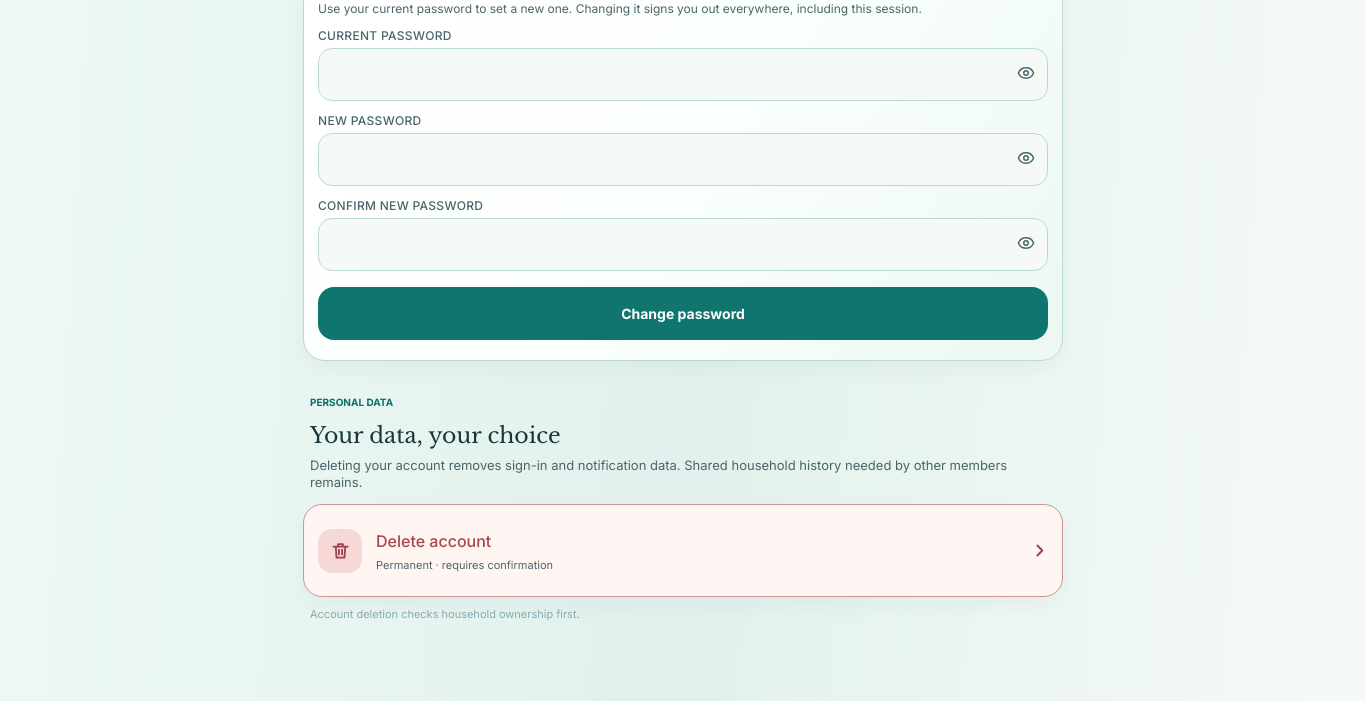
Test: PrivacySecurityScreen › turns the server ownership conflict into a visible household blocker
The width and height of the screenshot is (1366, 701).
(page scrolled)
Click the button "Delete account Permanent · requires confirmation" at (340, 551), box [304, 505, 1062, 596]
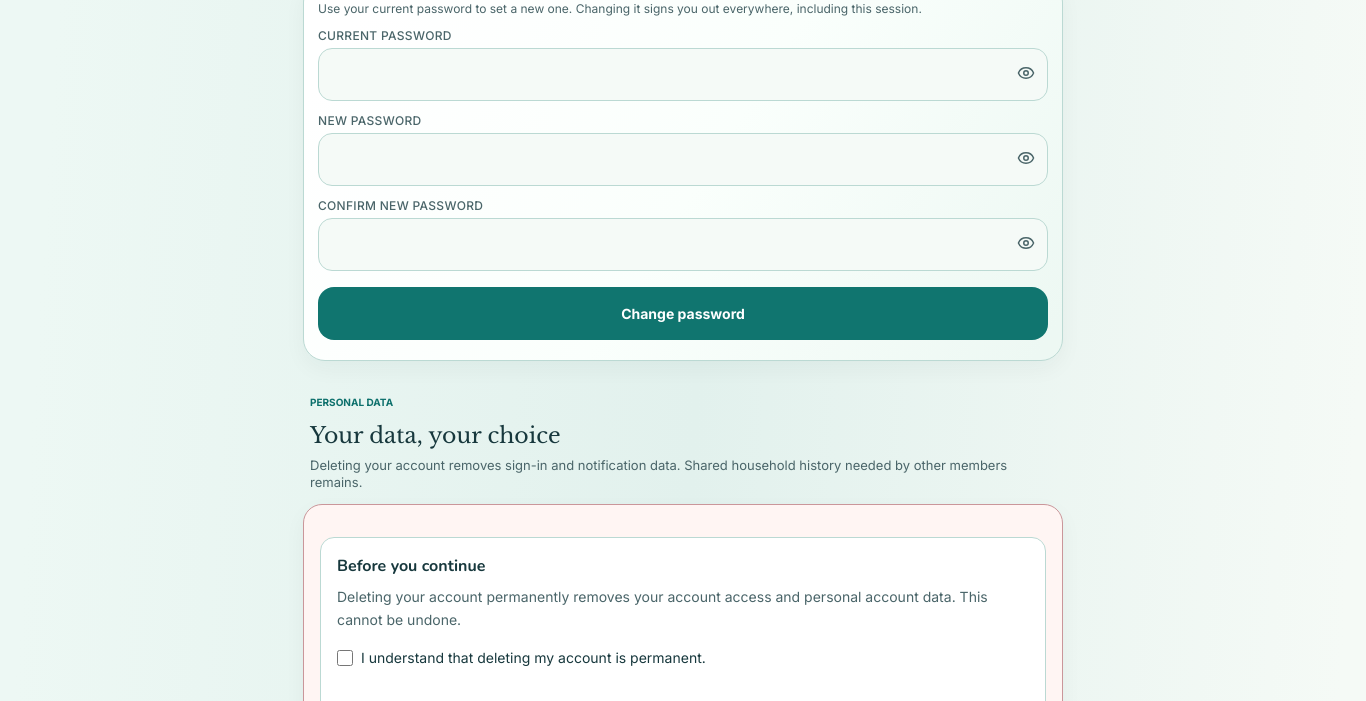
Now the checkbox labelled "I understand that deleting my account is permanent." is shown
Click the checkbox labelled "I understand that deleting my account is permanent." at (345, 658), box [337, 650, 353, 666]
(page scrolled)
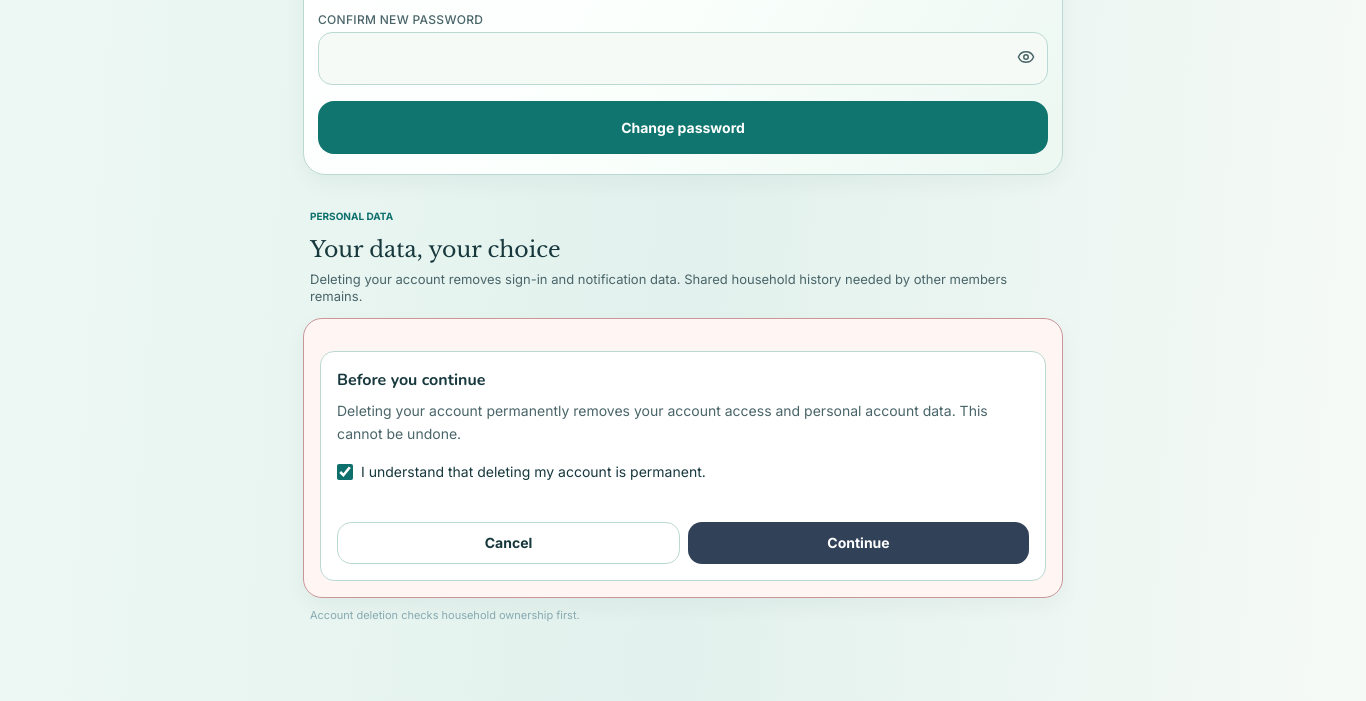
Click the button "Continue" at (858, 543), box [688, 522, 1029, 564]
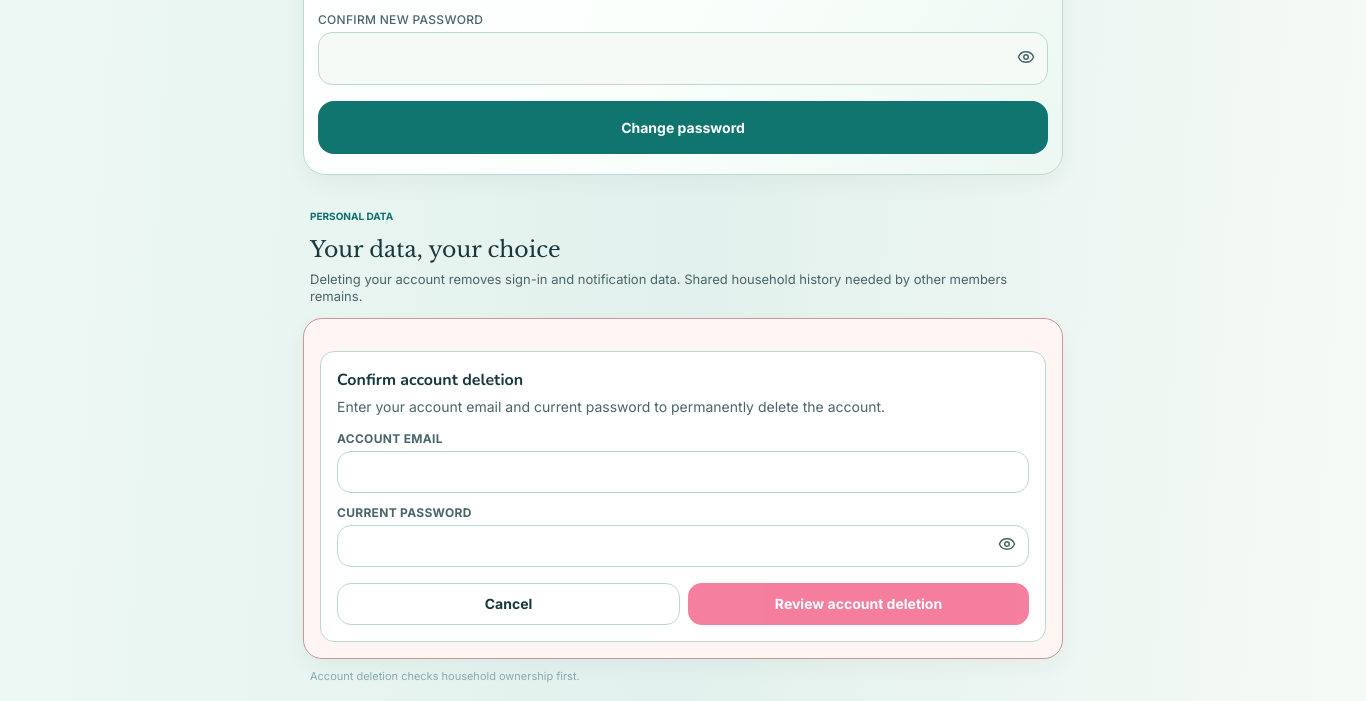
Type "user@example.com" into the field labelled "Account email" at (683, 472), box [337, 451, 1029, 493]
Type "StrongPassword123!" into the password field labelled "Current password" at (683, 546), box [337, 525, 1029, 567]
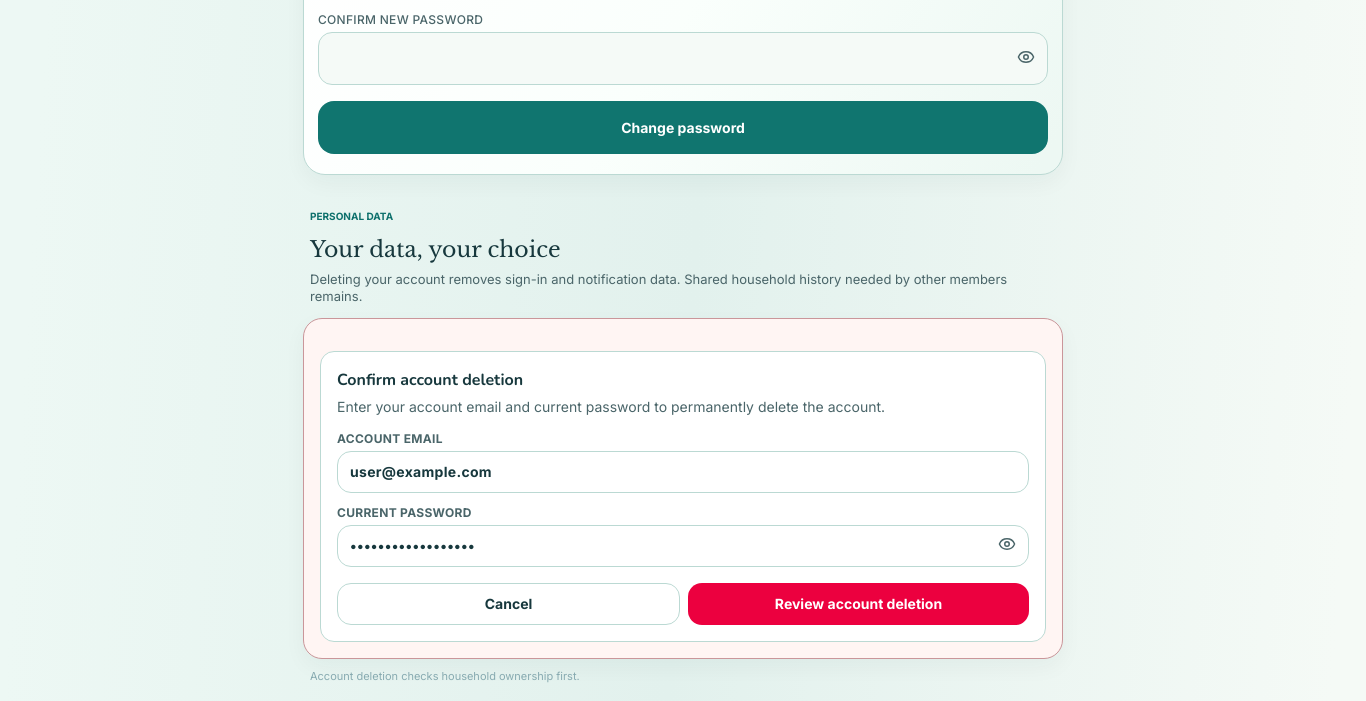
Click the button "Review account deletion" at (858, 604), box [688, 583, 1029, 625]
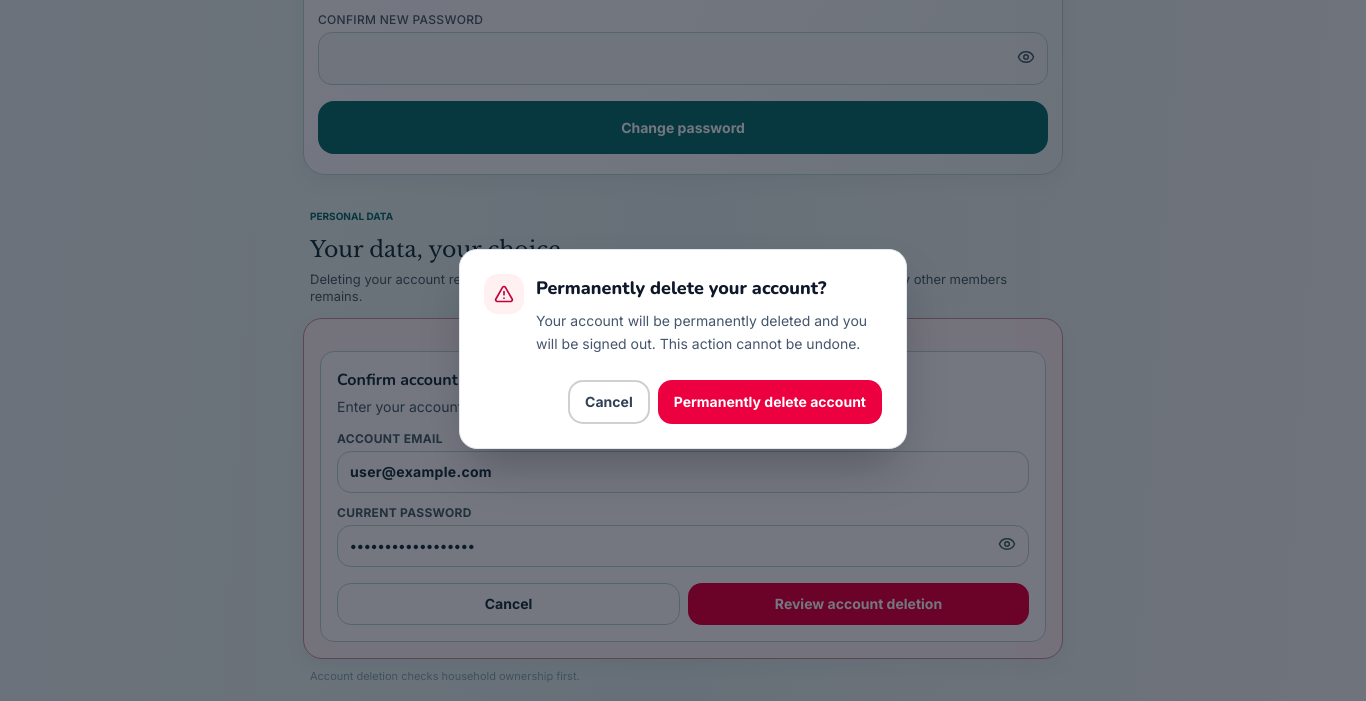
Click the button "Permanently delete account" at (770, 402), box [658, 380, 882, 424]
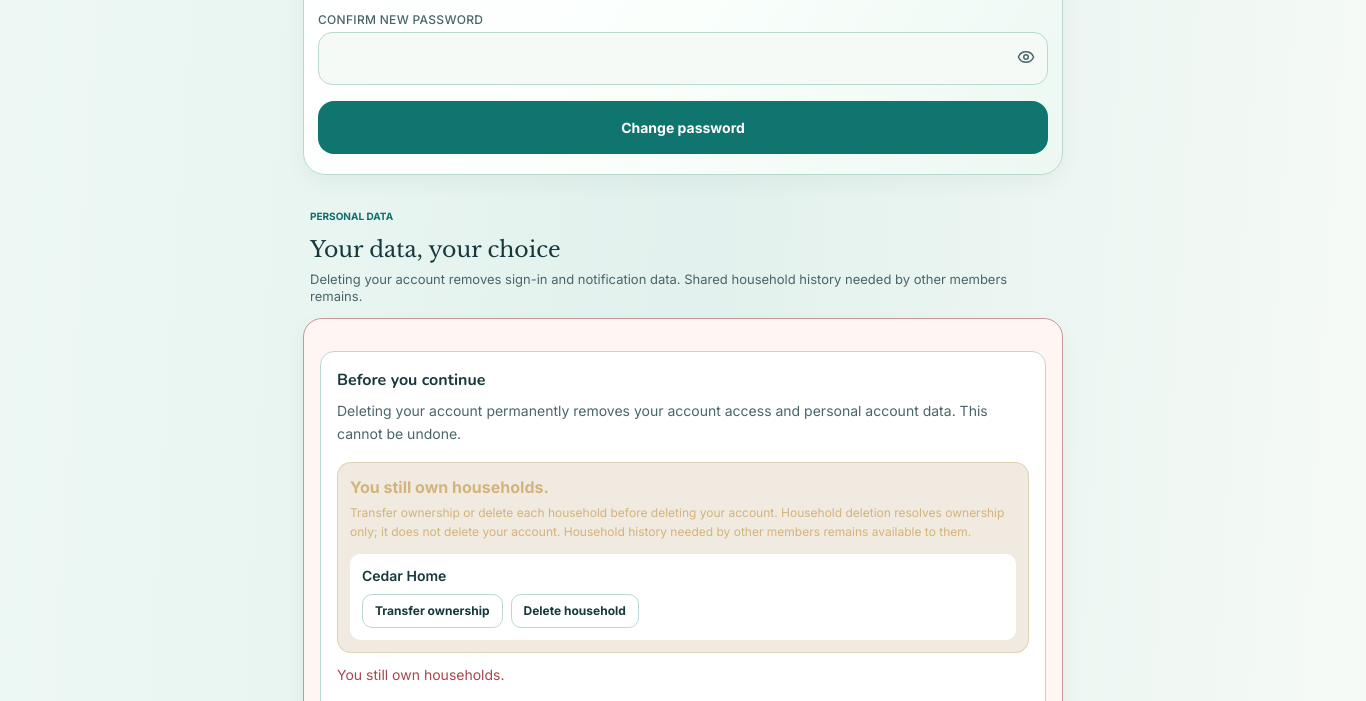
Now the text "Cedar Home" is shown, box [362, 567, 446, 584]
Now the heading "You still own households." is shown, box [350, 477, 549, 497]
